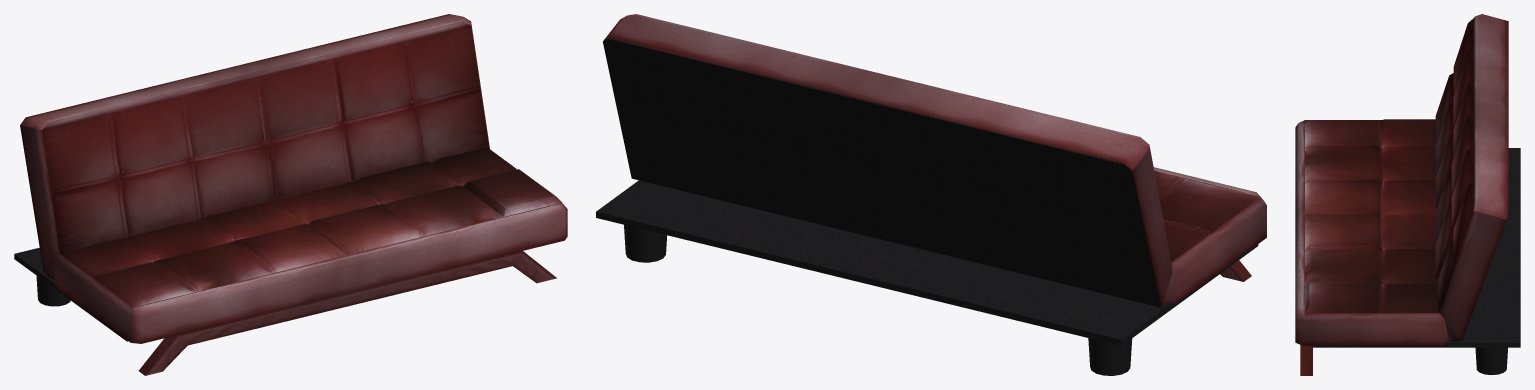
Rendered from bed2.FBX.
The picture shows the model from 3 angles, left to right: view 1: azimuth 30°, elevation 25°; view 2: azimuth 150°, elevation 25°; view 3: azimuth 270°, elevation 25°; orthographic projection. The views are drawn at different scales.
Visible parts, largest first — view 1: Cylinder001; view 2: Cylinder001; view 3: Cylinder001.
Part boxes in pixels (left/top/right/bottom): Cylinder001: left=14, top=14, right=567, bottom=375; Cylinder001: left=596, top=14, right=1266, bottom=375; Cylinder001: left=1295, top=14, right=1520, bottom=375.
Bounding box in the file's own units: 64.14 × 26.42 × 31.03.
